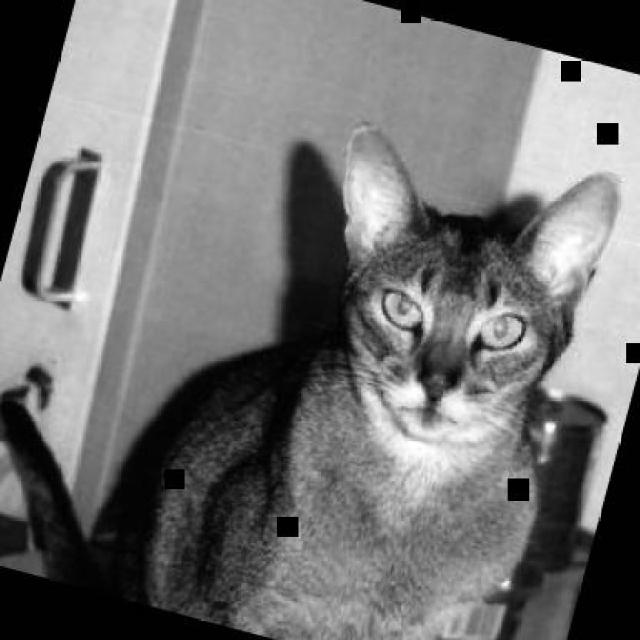cat: (0, 32, 631, 638)
